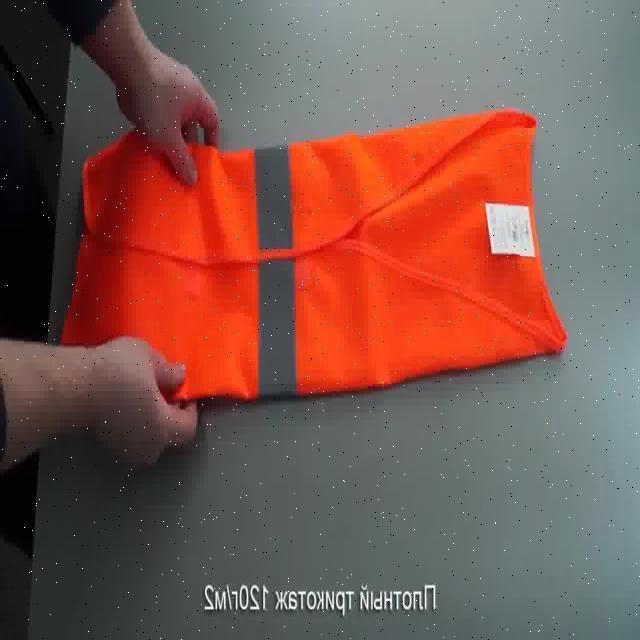Vest: (50, 102, 552, 400)
